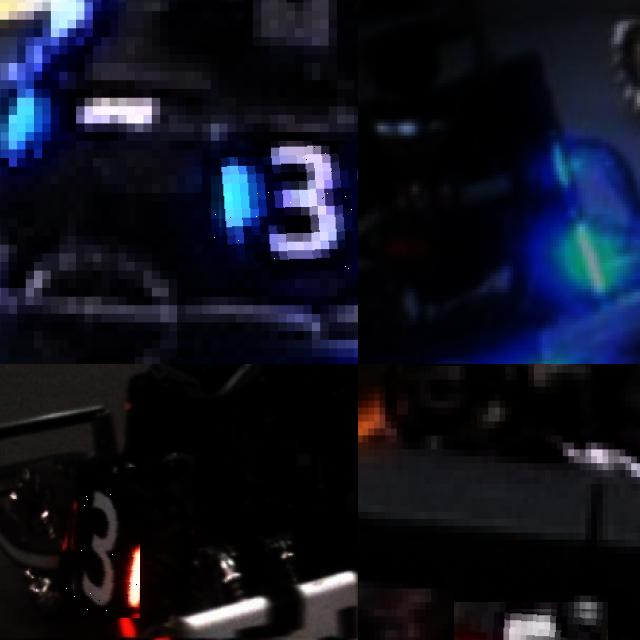B3: (210, 140, 358, 270)
R3: (64, 467, 140, 620)
R5: (453, 602, 608, 640)
